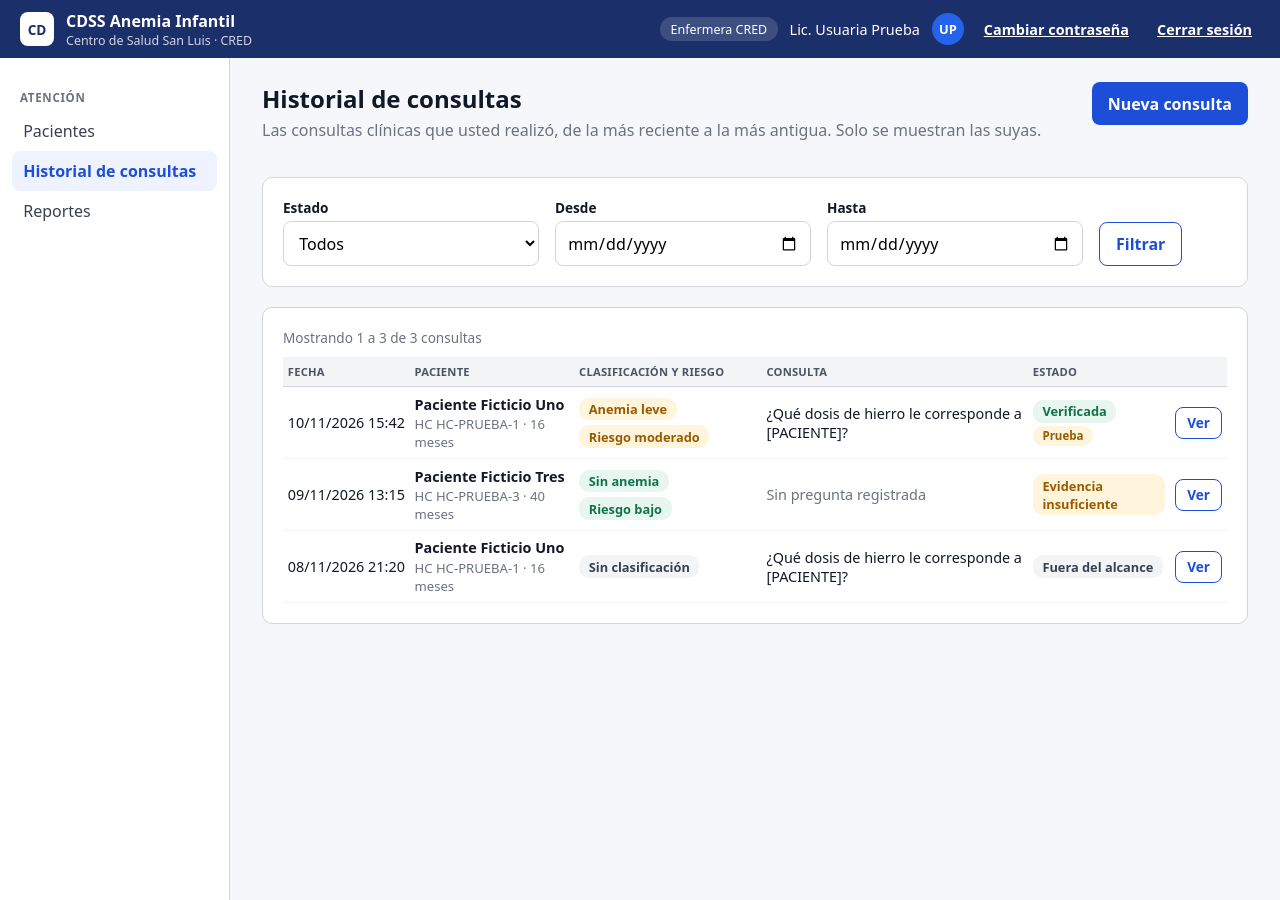
Test: Historial de consultas · filtros y paginación › no envía un rango con «Hasta» anterior a «Desde» y lo explica junto a los campos
Check: the element named "Consultas realizadas" is shown, box [283,357,1227,603]
In the date field labelled "Desde": [683, 244] box [555,221,811,266], type "2026-11-15"
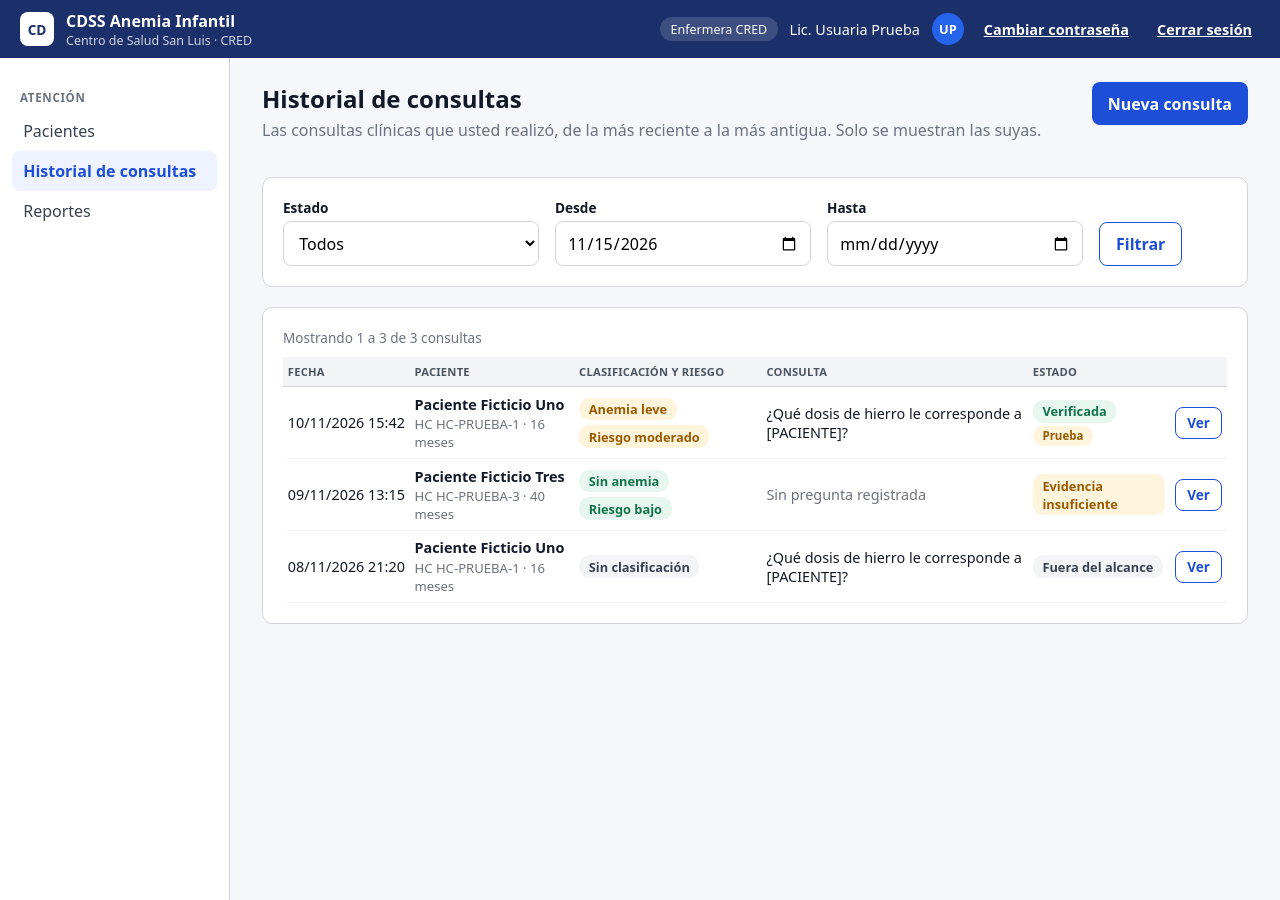
In the date field labelled "Hasta": [955, 244] box [827,221,1083,266], type "2026-11-01"
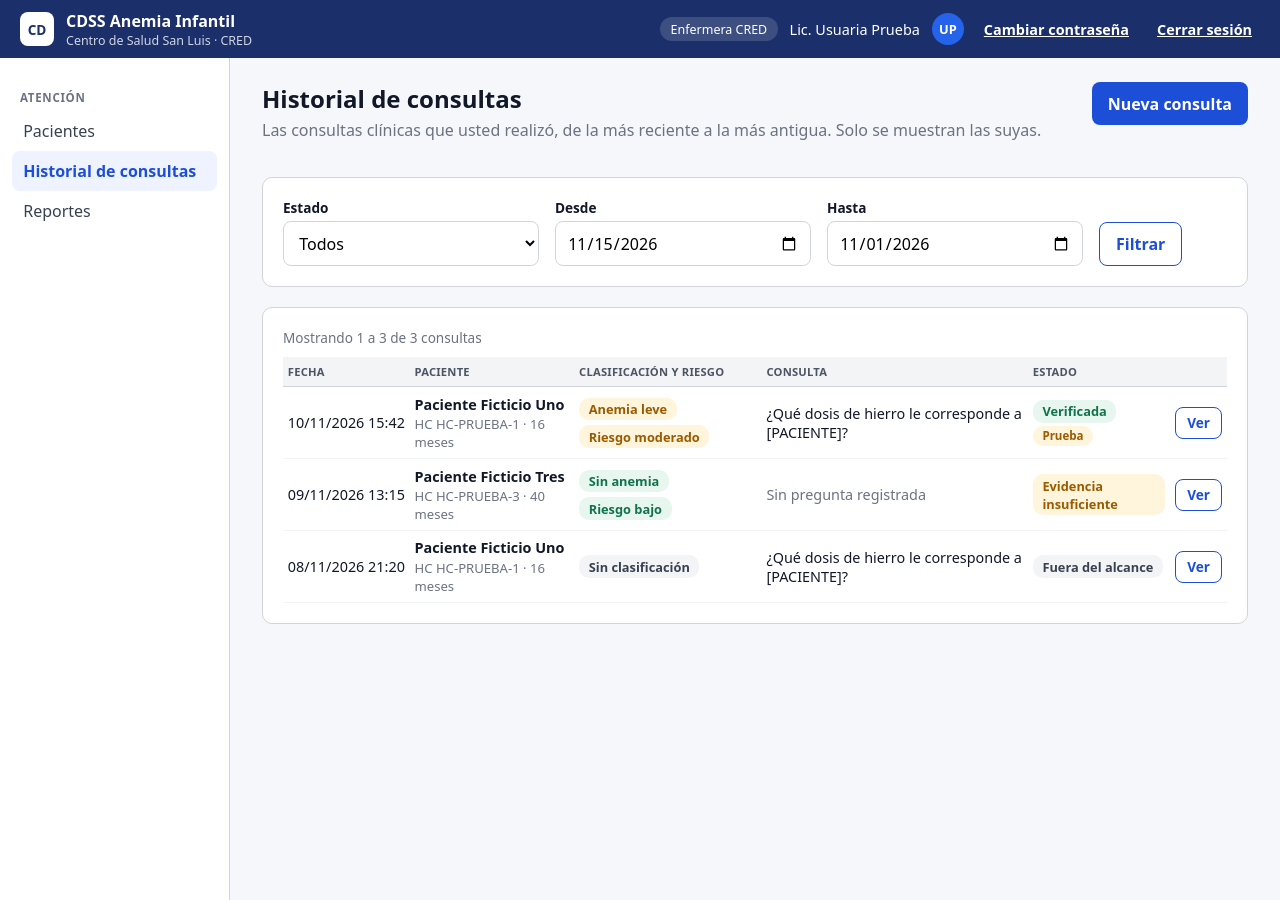
Click the button "Filtrar": [1141, 244] box [1099,222,1182,266]
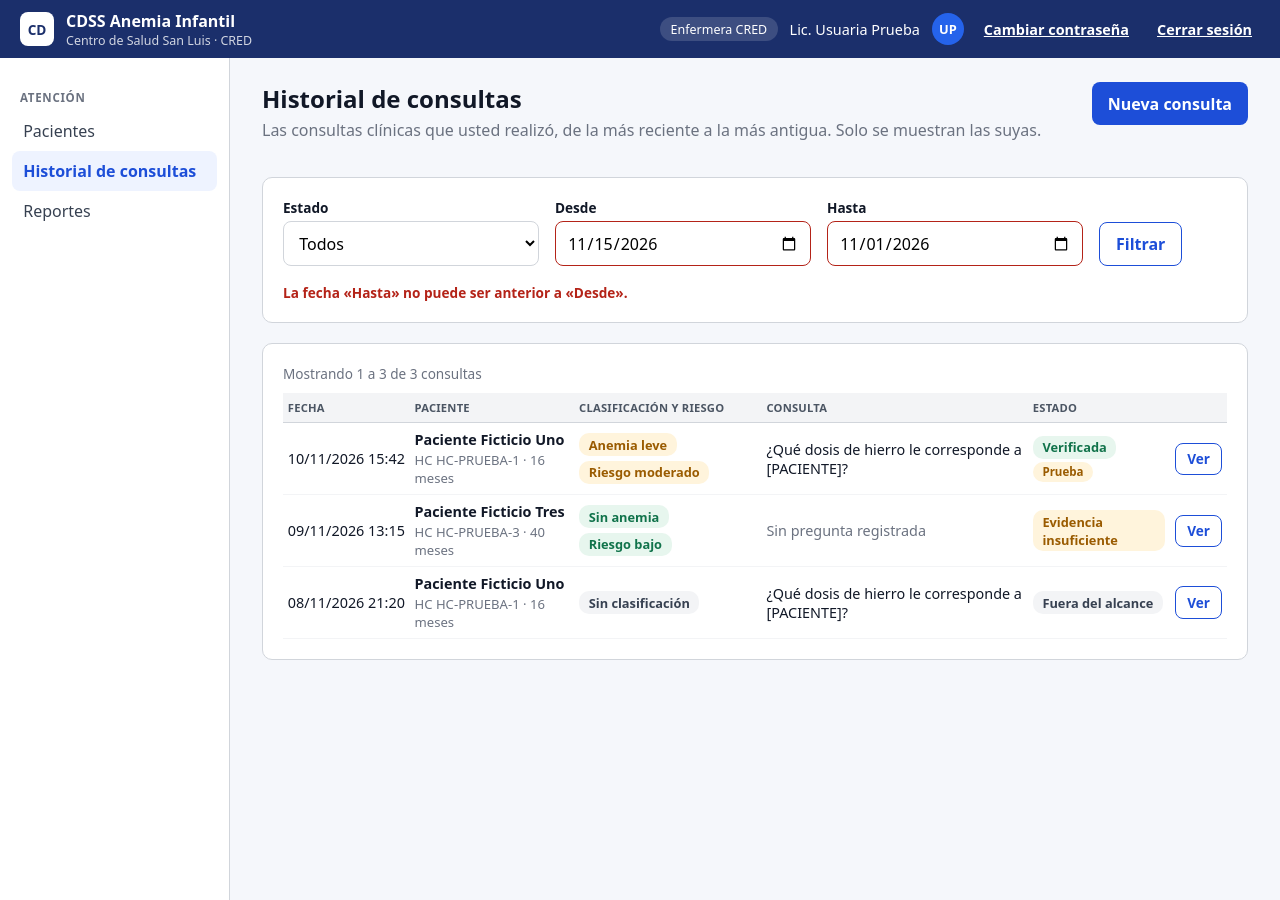
Check: the message "La fecha «Hasta» no puede ser anterior a «Desde»." is shown, box [283,283,628,302]
